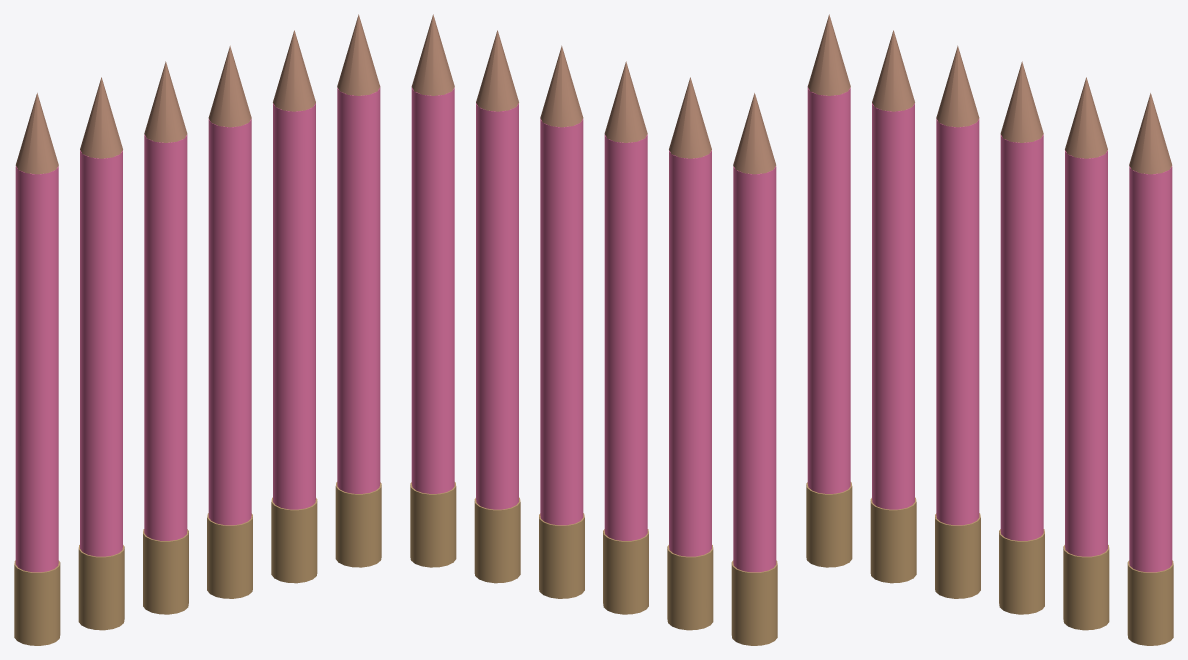
File: TRD-01-05.glb
3 views of the same model, side by side, from view 1: azimuth 30°, elevation 25°; view 2: azimuth 150°, elevation 25°; view 3: azimuth 330°, elevation 25° (orthographic).
Parts seen in each view (by area): view 1: TRD-01-05; view 2: TRD-01-05; view 3: TRD-01-05.
Boxes of the visible parts, x1,y1,x2,y2 form: TRD-01-05: (14,14,381,645); TRD-01-05: (410,14,777,645); TRD-01-05: (806,14,1173,645).
Bounding box in the file's own units: 0.675 × 0.97 × 0.075.
